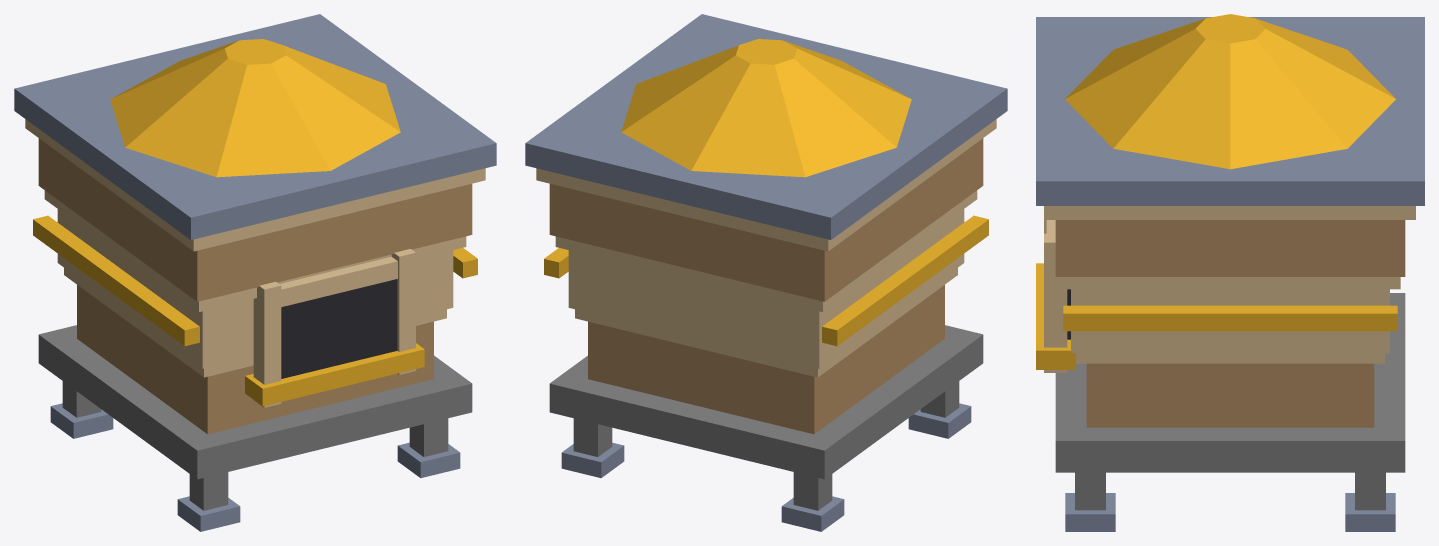
The model's file is hive.glb.
3 renders of one model, left to right at view 1: azimuth 30°, elevation 25°; view 2: azimuth 150°, elevation 25°; view 3: azimuth 270°, elevation 25°, orthographic. The views are drawn at different scales.
Parts seen in each view (by area): view 1: hive; view 2: hive; view 3: hive.
Part boxes in pixels (x1,y1,x2,y2): hive: (14, 14, 496, 531); hive: (525, 14, 1007, 531); hive: (1036, 14, 1424, 531).
Size of the model in its own units: 1 by 1.23 by 1.
